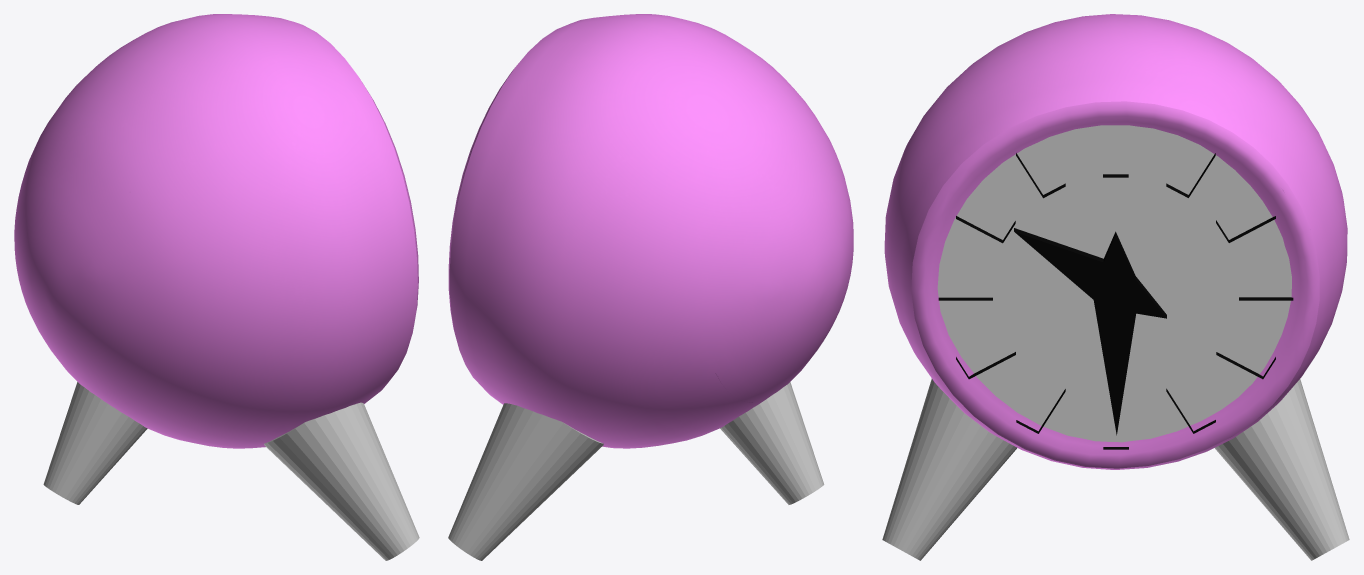
File: ЧасыБолееКруглые.fbx
3 renders of one model, left to right at view 1: azimuth 30°, elevation 25°; view 2: azimuth 150°, elevation 25°; view 3: azimuth 270°, elevation 25°, orthographic. The views are drawn at different scales.
Visible parts, largest first — view 1: Retopo_Окружность.001, Цилиндр.001; view 2: Retopo_Окружность.001, Цилиндр.001; view 3: Окружность.001, Retopo_Окружность.001, Цилиндр.001, Куб.001.
Part boxes in pixels (x1,y1,x2,y2): Retopo_Окружность.001: [14, 14, 418, 448]; Цилиндр.001: [43, 382, 419, 560]; Retopo_Окружность.001: [448, 14, 853, 448]; Цилиндр.001: [448, 382, 824, 560]; Окружность.001: [937, 125, 1291, 442]; Retopo_Окружность.001: [884, 14, 1347, 469]; Цилиндр.001: [882, 378, 1349, 560]; Куб.001: [938, 153, 1293, 449].
Bounding box in the file's own units: 149 × 229 × 196.
